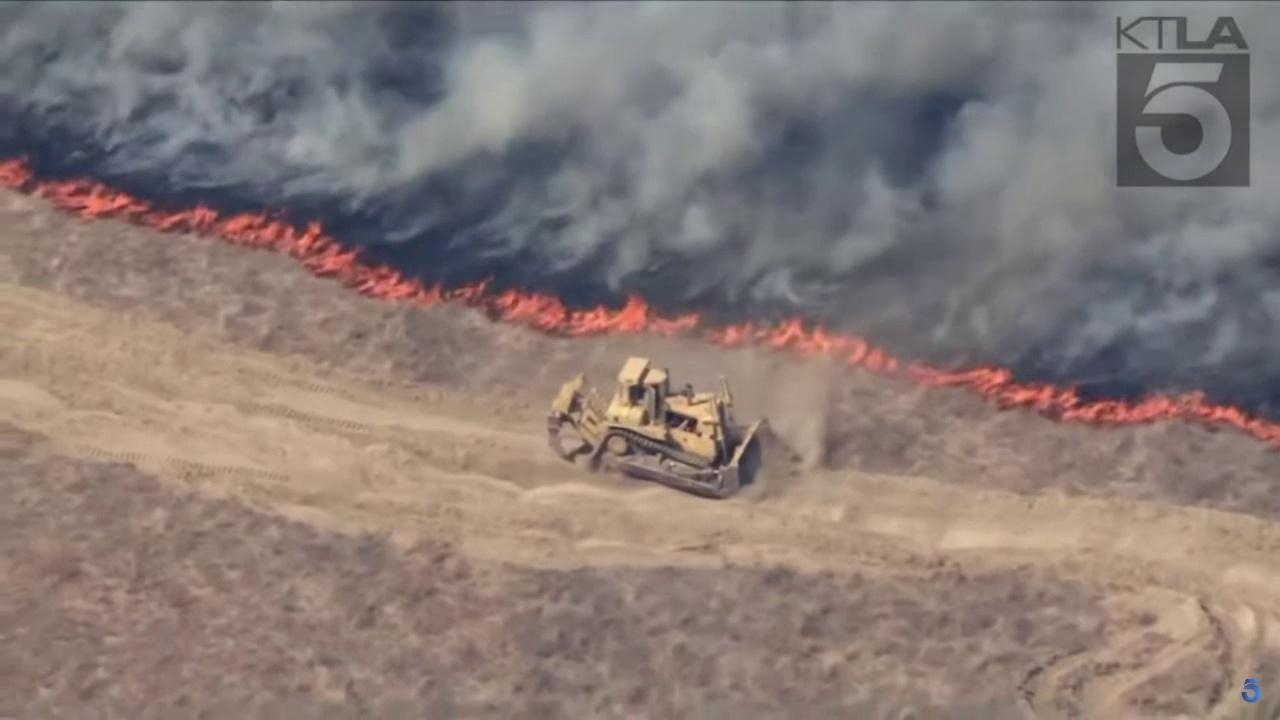fire: (0, 143, 1280, 448)
smoke: (0, 0, 1280, 406)
